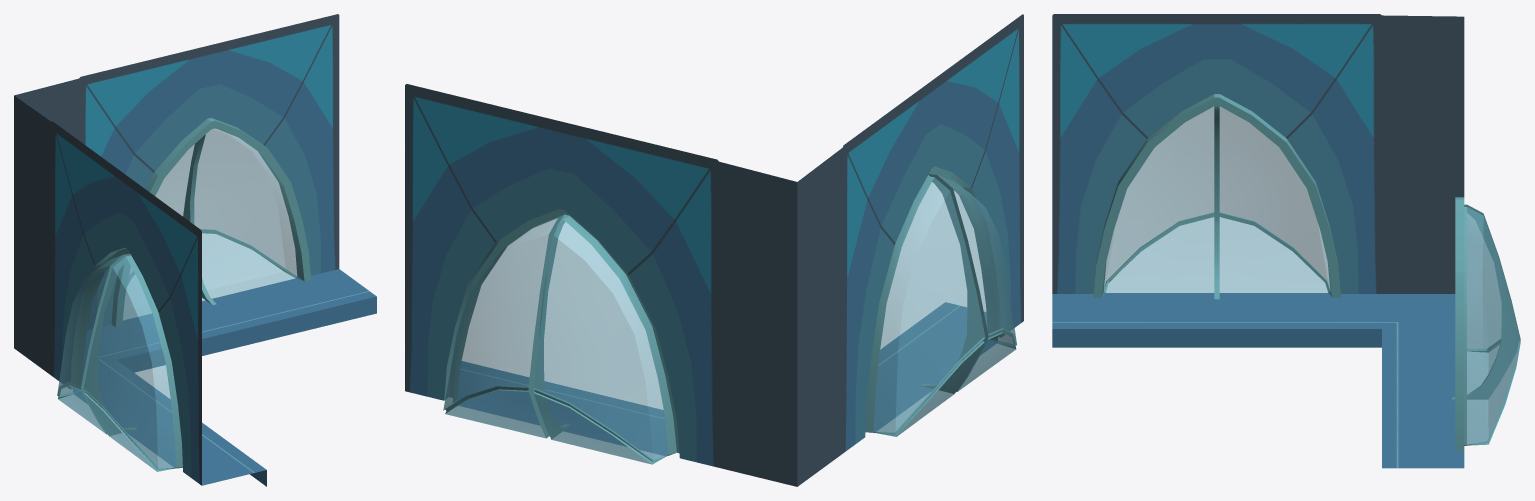
File: Corner_Wall.fbx
3 renders of one model, left to right at view 1: azimuth 30°, elevation 25°; view 2: azimuth 150°, elevation 25°; view 3: azimuth 270°, elevation 25°, orthographic. The views are drawn at different scales.
Visible parts, largest first — view 1: Corner; view 2: Corner; view 3: Corner.
Boxes of the visible parts, bbox=[...] form: Corner: bbox=[14, 14, 376, 486]; Corner: bbox=[405, 14, 1023, 486]; Corner: bbox=[1052, 14, 1520, 468].
Size of the model in its own units: 568 by 400 by 568.
2 materials, 1 textured.
